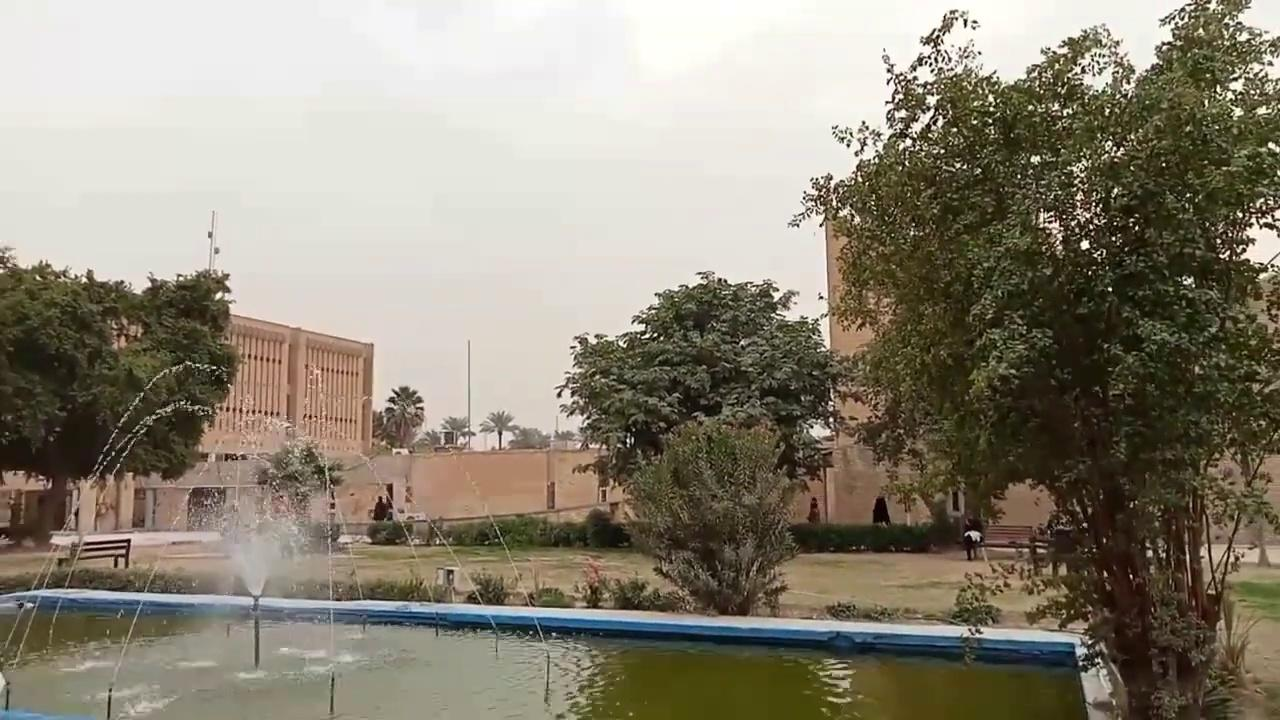fountain: (1, 365, 1105, 717), (1, 588, 1108, 718), (229, 527, 278, 611)
person: (962, 524, 981, 560), (871, 494, 890, 525), (806, 496, 820, 523), (372, 495, 387, 520)
tree: (786, 1, 1279, 717), (554, 269, 854, 520), (0, 242, 242, 539), (623, 416, 799, 616), (252, 436, 344, 553), (380, 384, 425, 452), (478, 409, 516, 449), (439, 415, 470, 446), (508, 426, 547, 449), (370, 409, 386, 446), (420, 429, 441, 448)
